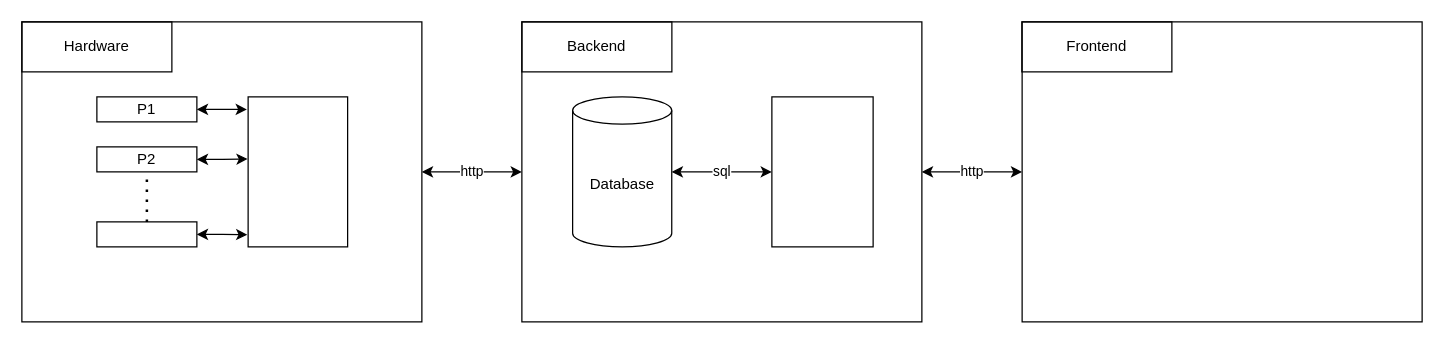
Some shapes in this 1445 by 344 pixel diagram are drawn without their labels. Here are the shapes that lost their labels. From the top down, the centre of each, then its label:
At (x=297, y=171): "uC".
At (x=822, y=171): "API Endpoints".
At (x=146, y=234): "Pn".
